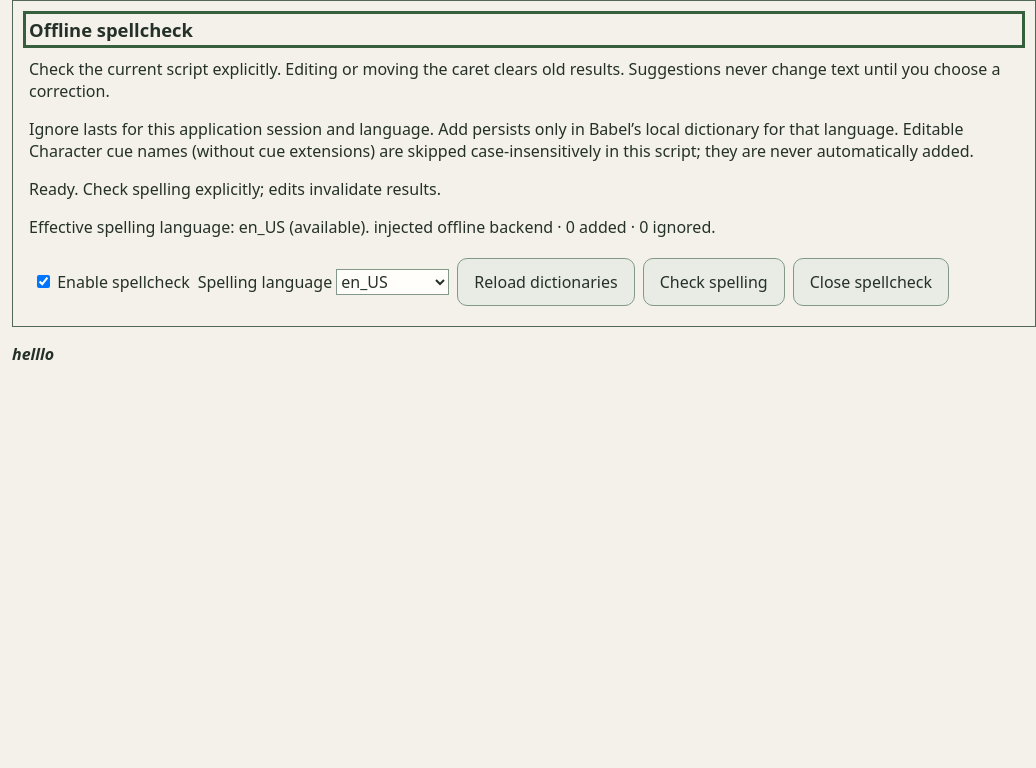
Test case: offers keyboard controls and explicit correction with retained marks
This screenshot has width=1036, height=768.
Click the button "Check spelling": (714, 282) [643, 258, 785, 306]
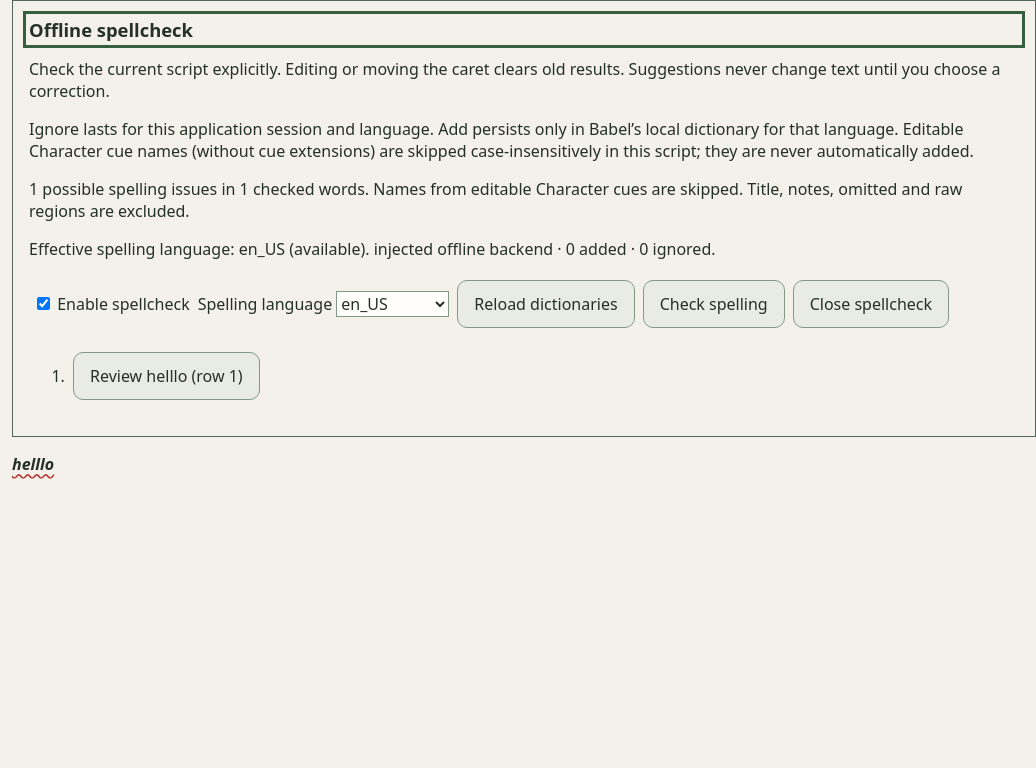
Now the button "Review helllo (row 1)" is enabled
Click the button "Review helllo (row 1)": (166, 376) [73, 352, 260, 400]
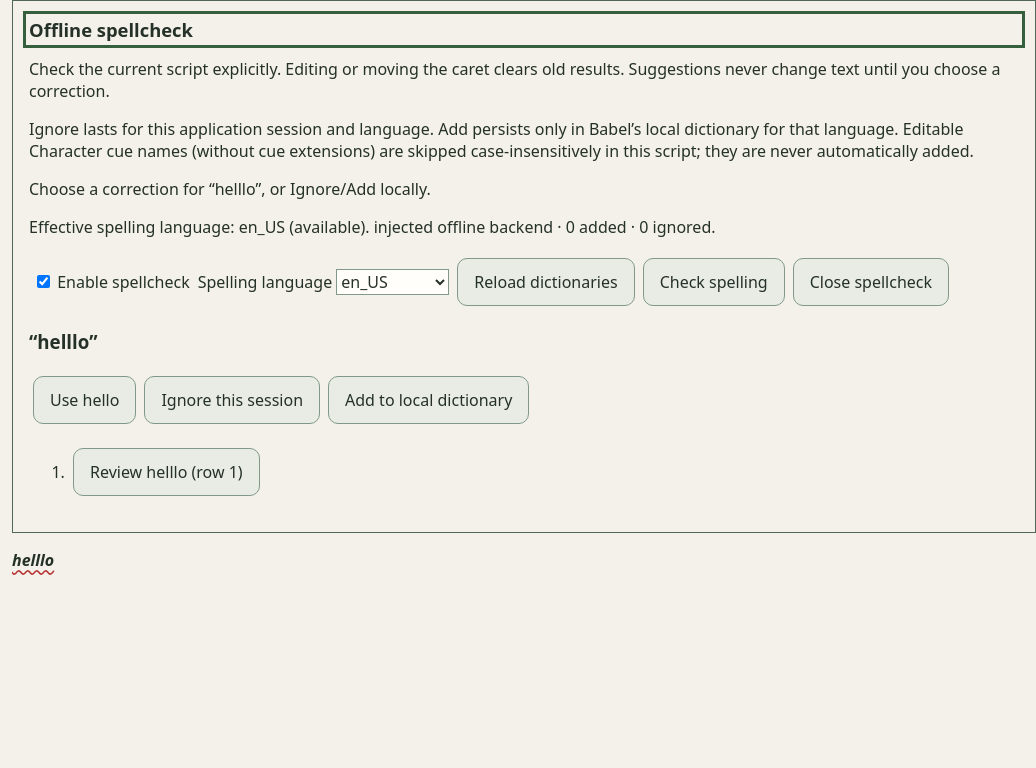
Now the button "Use hello" is enabled
Click the button "Use hello": (85, 400) [33, 376, 136, 424]
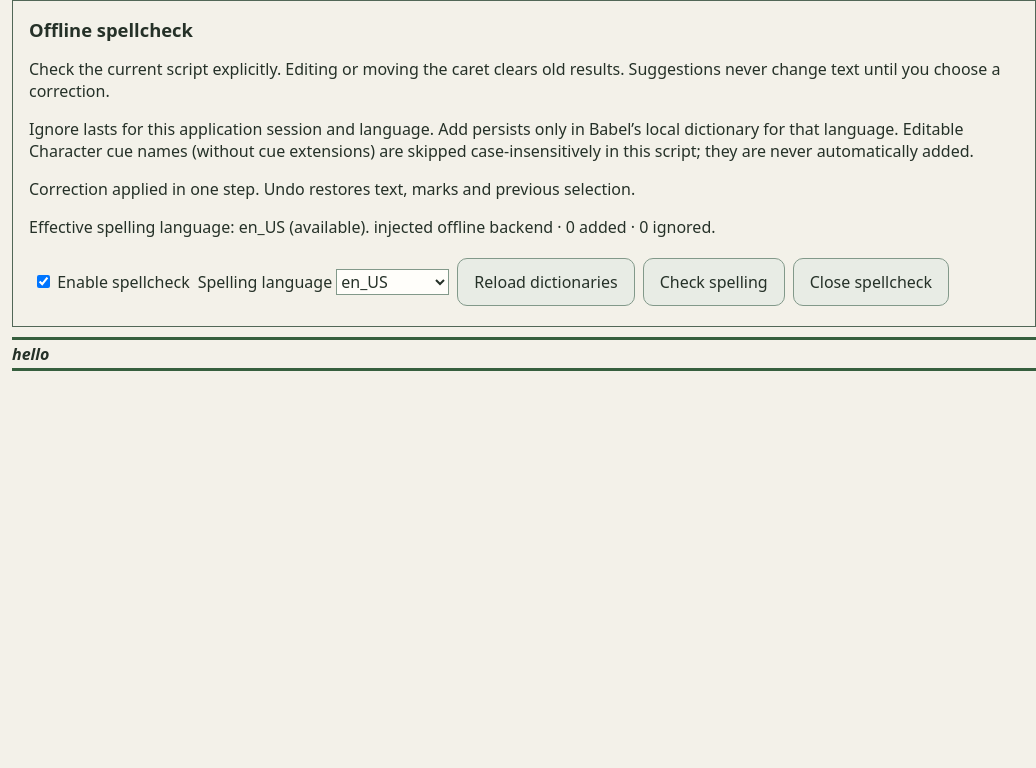
Now the message shows "Correction applied", box [29, 178, 635, 200]
